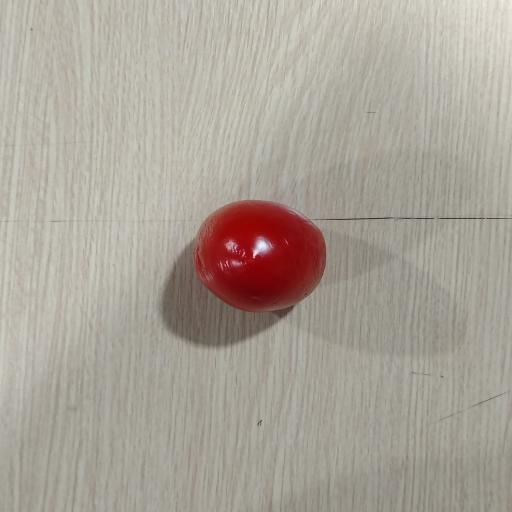spoiled: (193, 200, 326, 312)
